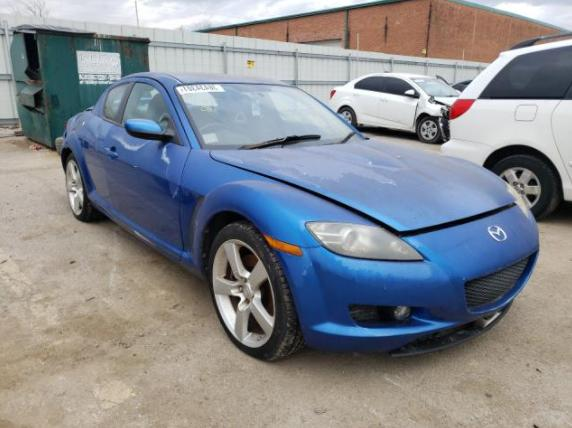Broken part: (226, 165, 517, 240), (390, 302, 511, 358)
Flaking: (277, 249, 427, 286), (255, 149, 396, 185), (222, 156, 242, 163)
